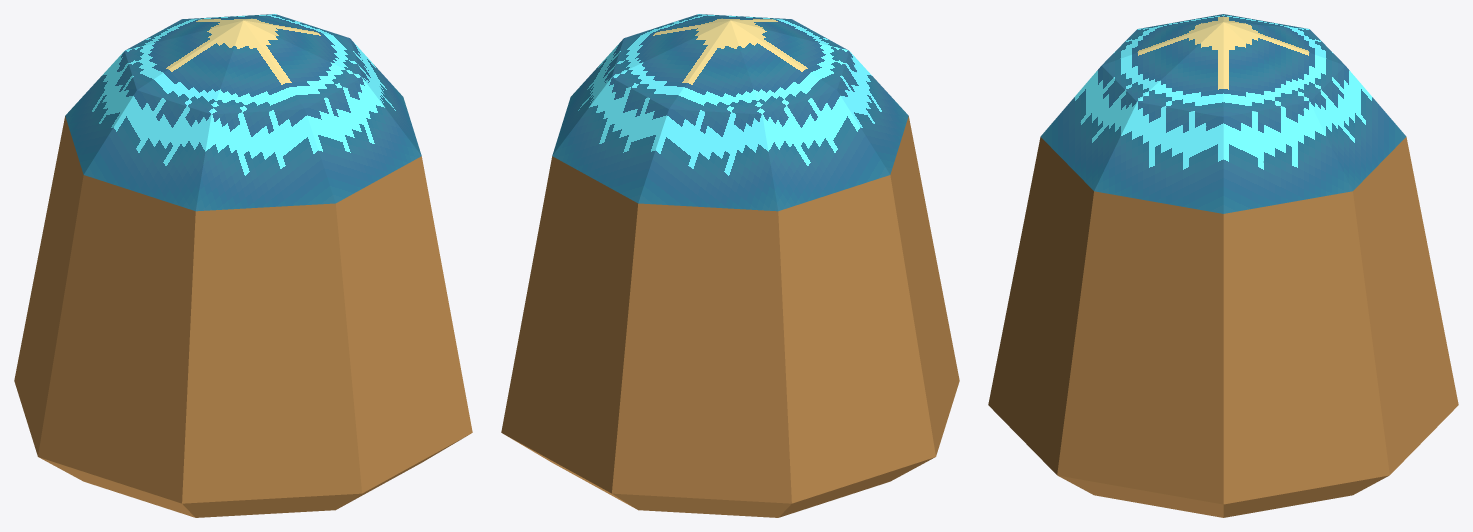
Rendered from prism-monitor.gltf.
3 renders of one model, left to right at view 1: azimuth 30°, elevation 25°; view 2: azimuth 150°, elevation 25°; view 3: azimuth 270°, elevation 25°, orthographic.
Parts seen in each view (by area): view 1: Prism monitor; view 2: Prism monitor; view 3: Prism monitor.
Boxes of the visible parts, x1,y1,x2,y2 form: Prism monitor: (14,14,472,517); Prism monitor: (501,14,959,517); Prism monitor: (988,14,1458,517).
Size of the model in its own units: 1.08 by 1.06 by 1.08.
2 materials, 1 textured.
